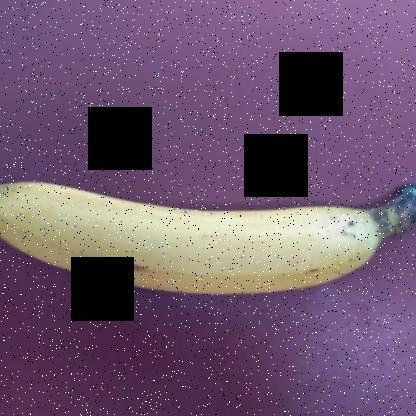freshripe: (0, 167, 403, 326)
